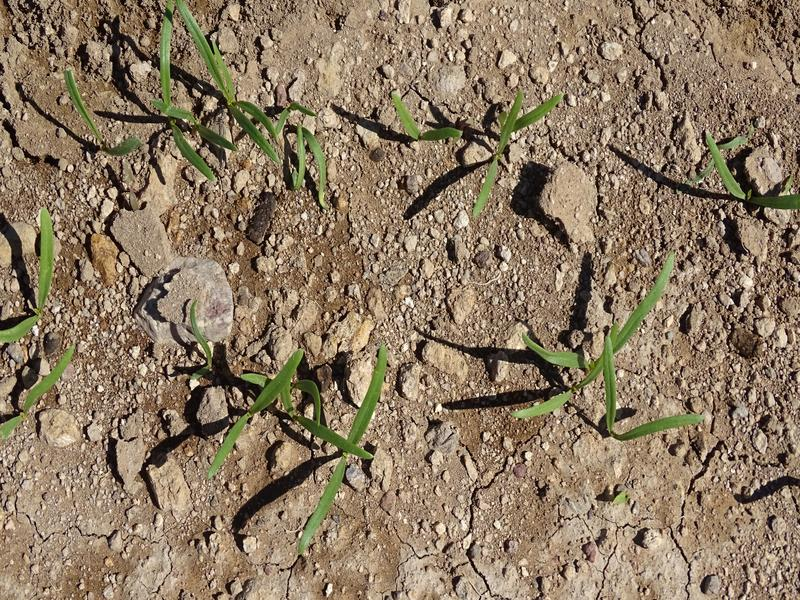Espinaca: (69, 19, 337, 211), (200, 344, 392, 537), (516, 265, 711, 439), (1, 201, 73, 421), (471, 92, 566, 217), (700, 128, 793, 213), (389, 87, 466, 151)
